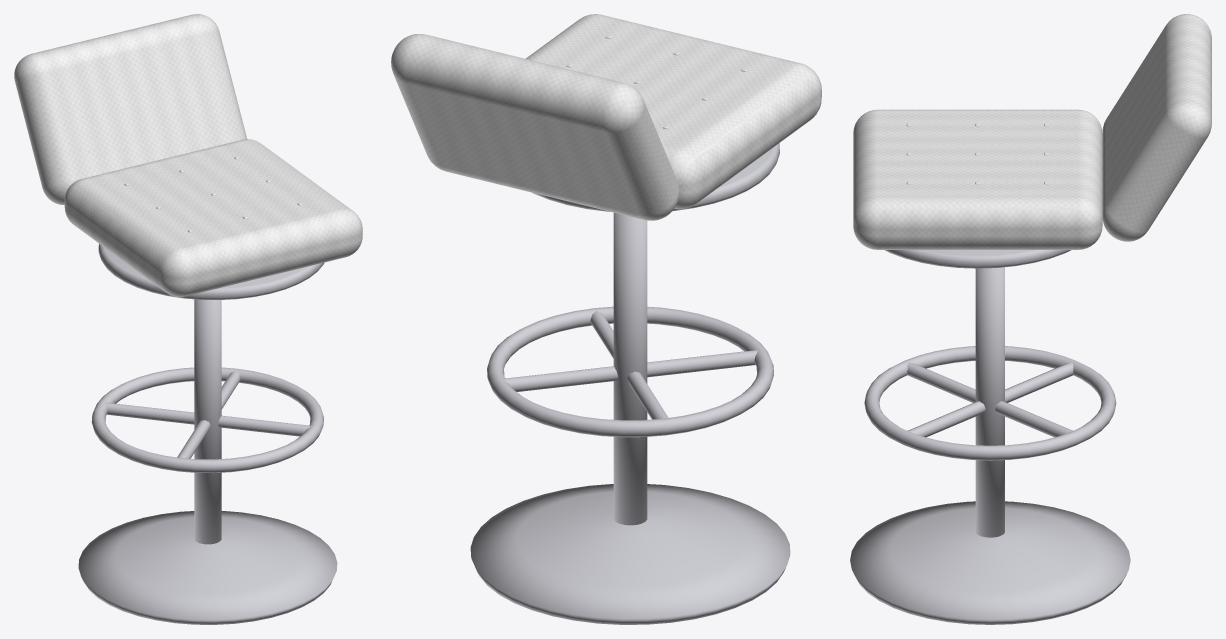
The model's file is bar-stuli-loft.glb.
3 renders of one model, left to right at view 1: azimuth 30°, elevation 25°; view 2: azimuth 150°, elevation 25°; view 3: azimuth 270°, elevation 25°, orthographic. The views are drawn at different scales.
Visible parts, largest first — view 1: furniture; view 2: furniture; view 3: furniture.
Part boxes in pixels (left/top/right/bottom): furniture: left=14, top=14, right=362, bottom=624; furniture: left=391, top=14, right=821, bottom=624; furniture: left=850, top=14, right=1211, bottom=624.
Size of the model in its own units: 0.45 by 0.8994 by 0.5802.
3 materials, 2 textured.
